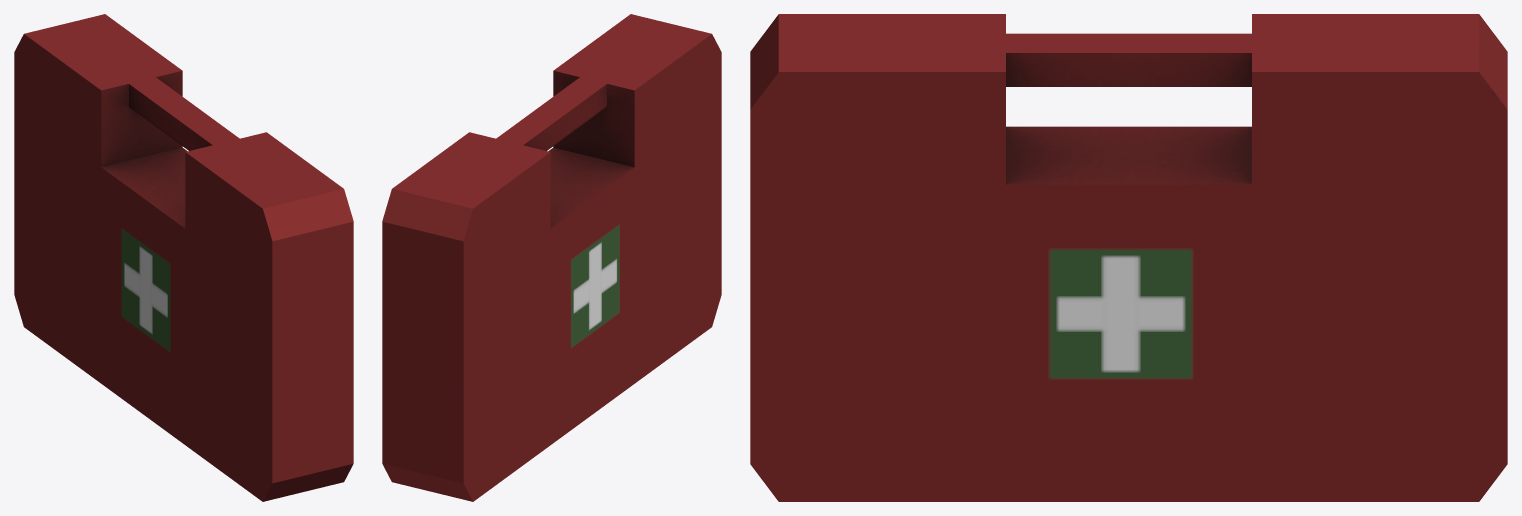
File: Medkit.fbx
3 views of the same model, side by side, from view 1: azimuth 30°, elevation 25°; view 2: azimuth 150°, elevation 25°; view 3: azimuth 270°, elevation 25° (orthographic). The views are drawn at different scales.
Visible parts, largest first — view 1: Medkit; view 2: Medkit; view 3: Medkit.
Boxes of the visible parts, x1=… form: Medkit: x1=14, y1=14, x2=353, y2=501; Medkit: x1=382, y1=14, x2=721, y2=501; Medkit: x1=750, y1=14, x2=1507, y2=501.
Bounding box in the file's own units: 1.7 × 5.88 × 9.38.
